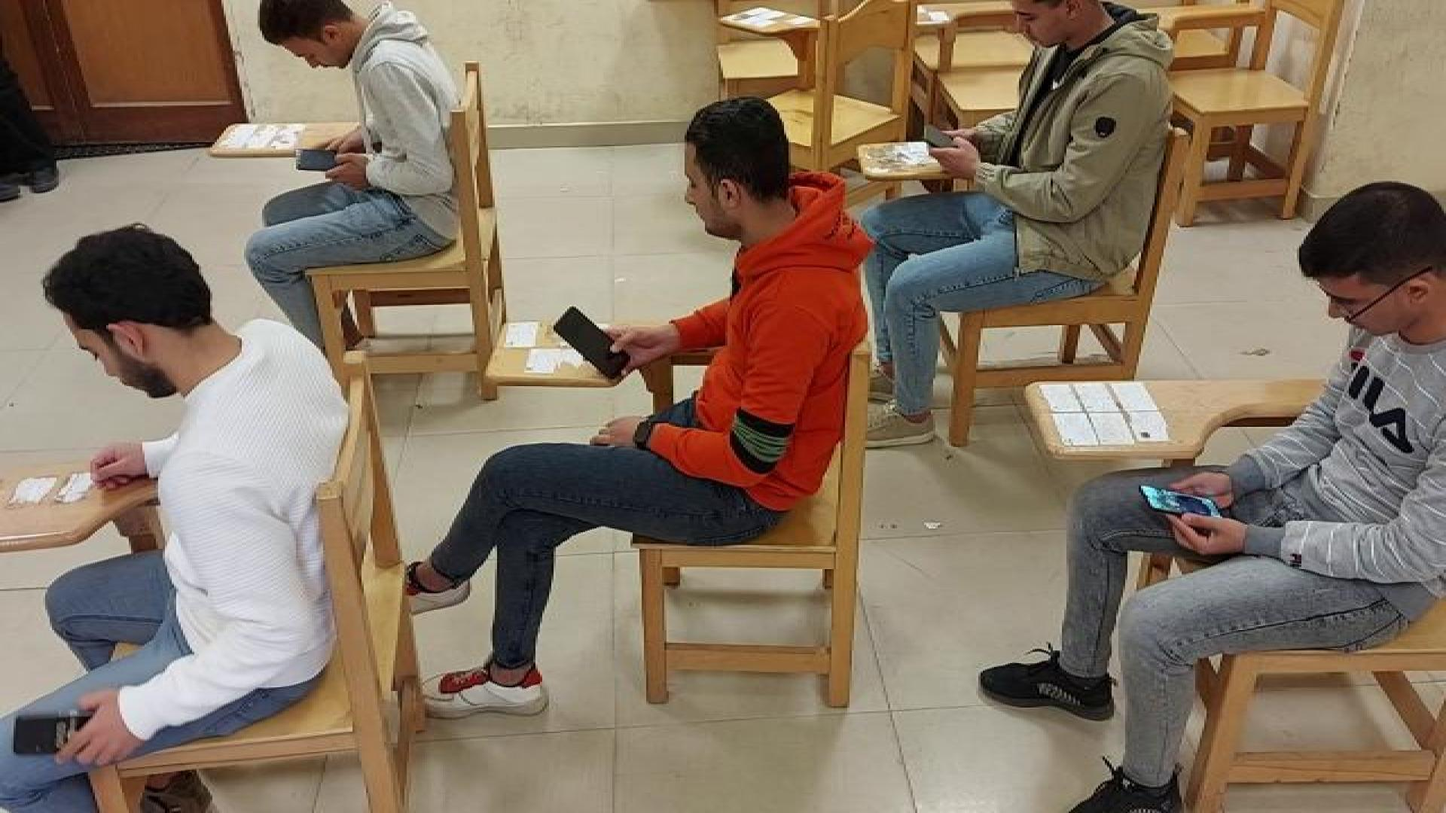phone: (554, 302, 630, 385), (9, 711, 111, 759), (1138, 485, 1223, 520), (293, 145, 358, 175), (920, 123, 960, 156)
